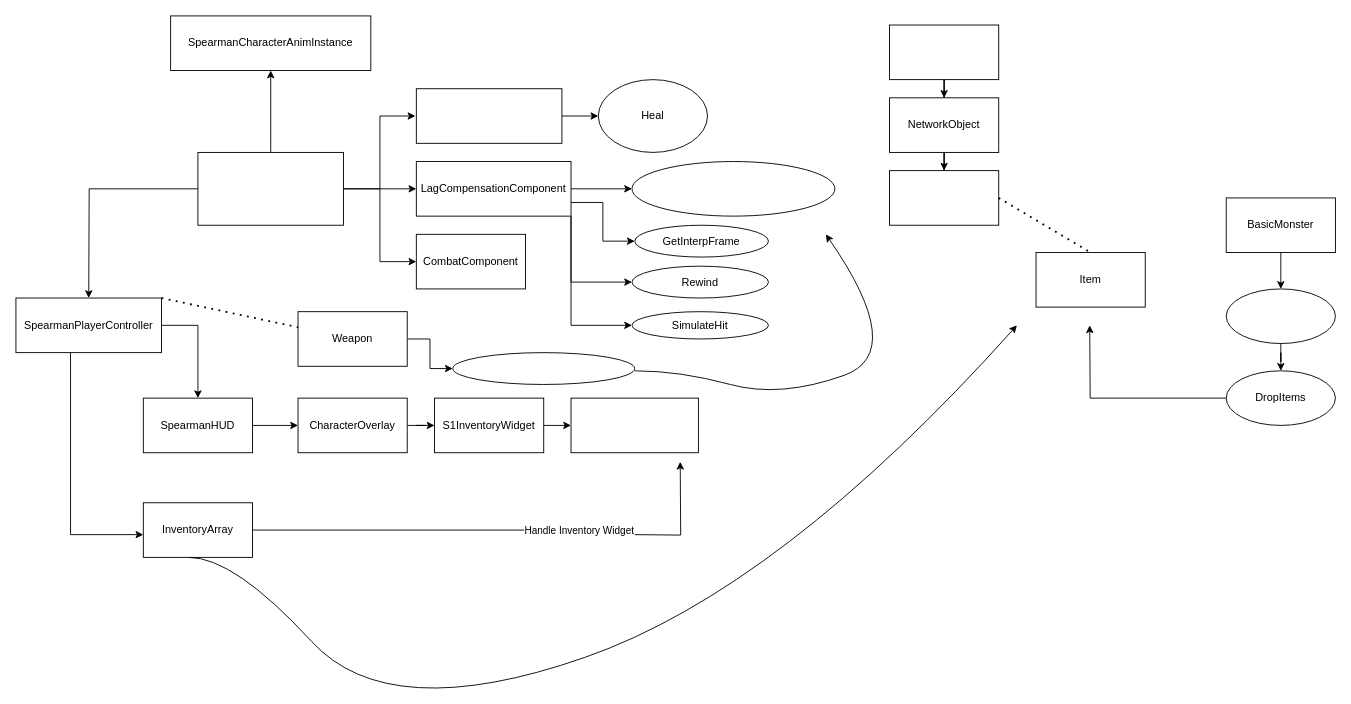
This 1351x704 diagram has some shape labels left out. Here are the shapes that lost their labels. From the top down, the centre of each, then its label:
At (x=944, y=52): "UObject".
At (x=488, y=115): "BuffComponent".
At (x=270, y=188): "SpearmanCharacter".
At (x=733, y=188): "ServerRewindRequest(ForParrying)".
At (x=944, y=197): "ItemInstance".
At (x=1280, y=316): "Death".
At (x=543, y=368): "AttackCollisionCheckByRewind".
At (x=634, y=425): "S1InventorySlotsWidget".
